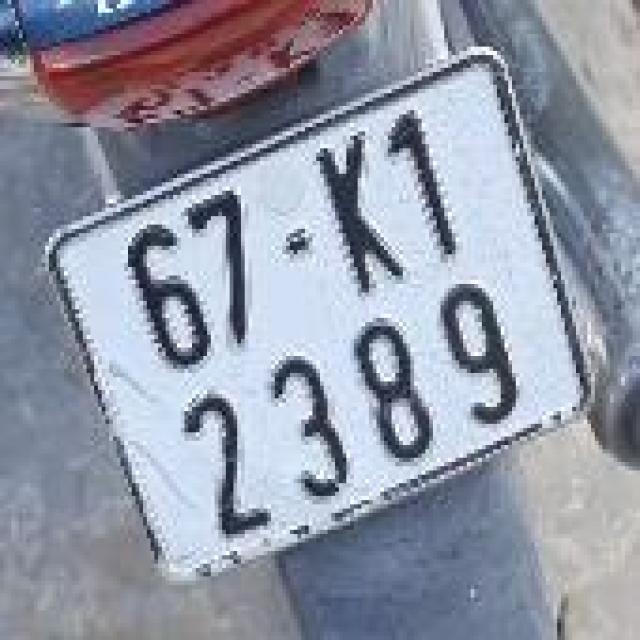1: (371, 95, 486, 287)
2: (165, 371, 293, 557)
3: (251, 335, 377, 522)
6: (107, 206, 227, 392)
7: (170, 174, 280, 355)
8: (336, 302, 457, 484)
9: (416, 266, 543, 441)
K: (307, 119, 423, 312)
